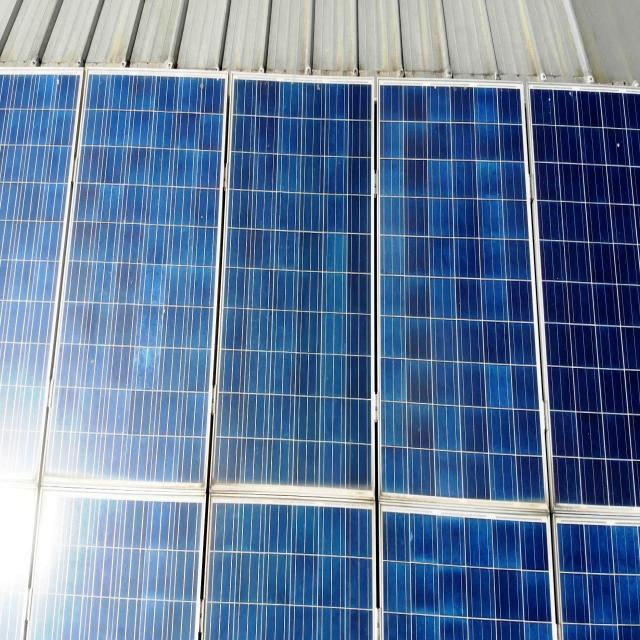faulty: (526, 89, 640, 514)
no faulty: (46, 70, 232, 510), (376, 79, 552, 508), (210, 71, 382, 501)
